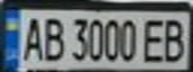0: (103, 16, 124, 63), (121, 16, 142, 63), (87, 15, 106, 63)
3: (66, 15, 90, 62)
A: (18, 12, 45, 62)
B: (157, 15, 190, 64), (39, 14, 66, 63)
E: (139, 16, 169, 64)
